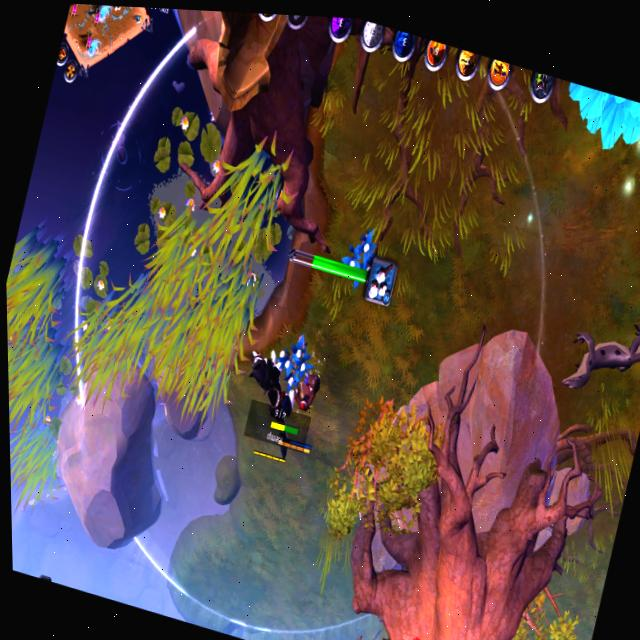hide: (331, 217, 393, 301), (265, 319, 324, 403)
ore: (544, 276, 640, 436), (385, 624, 438, 640), (559, 626, 593, 640)
red: (271, 349, 336, 467)
wisp caged: (536, 75, 640, 178)
